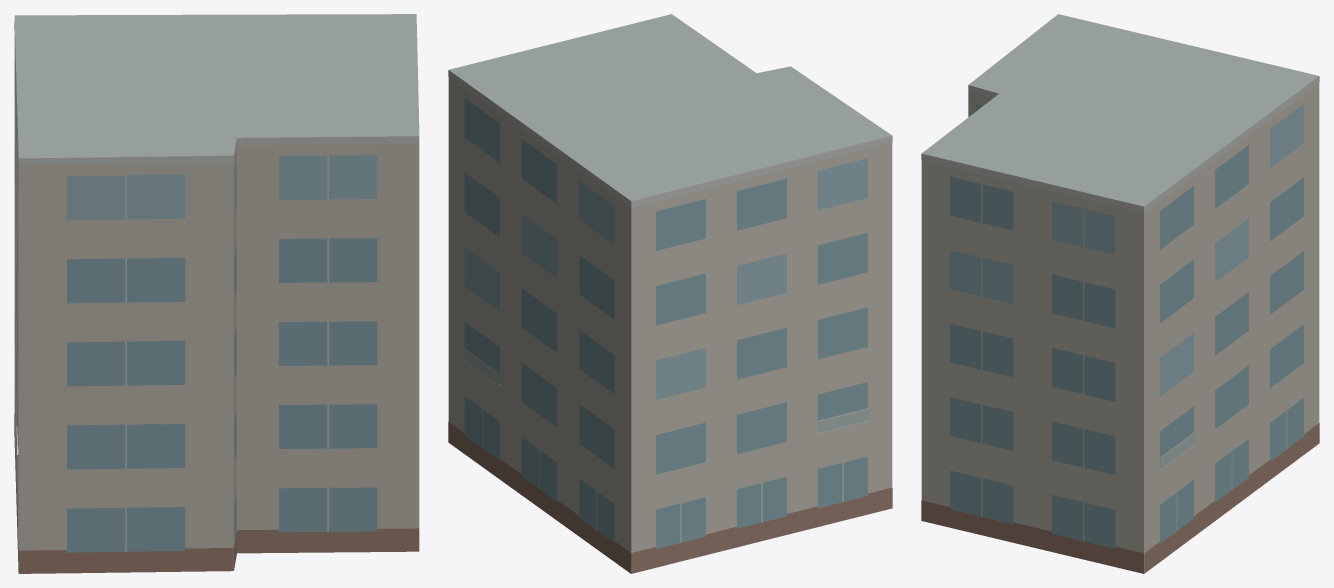
Rendered from survey-upis-32834606.glb.
3 views of the same model, side by side, from view 1: azimuth 30°, elevation 25°; view 2: azimuth 150°, elevation 25°; view 3: azimuth 270°, elevation 25° (orthographic). The views are drawn at different scales.
Parts seen in each view (by area): view 1: survey-upis-32834606.tmp; view 2: survey-upis-32834606.tmp; view 3: survey-upis-32834606.tmp.
Boxes of the visible parts, box(x1,y1,x2,y2) form: survey-upis-32834606.tmp: box(14, 14, 419, 573); survey-upis-32834606.tmp: box(448, 14, 892, 573); survey-upis-32834606.tmp: box(921, 14, 1319, 573).
Bounding box in the file's own units: 15.02 × 13.35 × 13.12.
